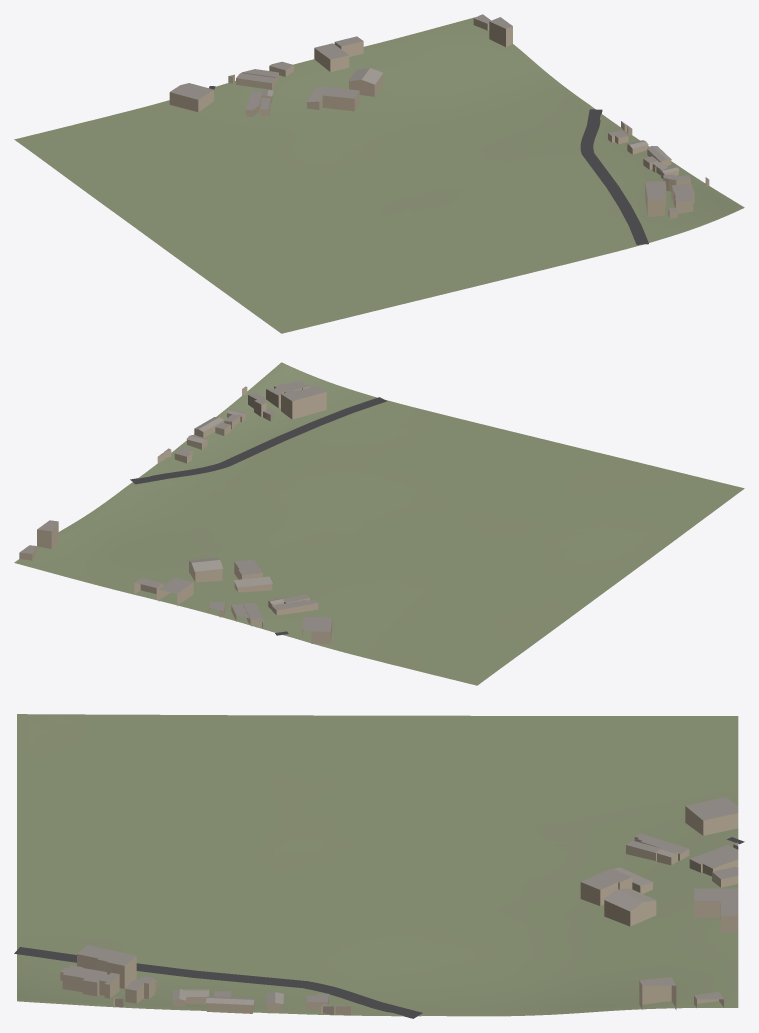
The picture shows the model from 3 angles, top to bottom: view 1: azimuth 30°, elevation 25°; view 2: azimuth 150°, elevation 25°; view 3: azimuth 270°, elevation 25°; orthographic projection. The views are drawn at different scales.
Parts seen in each view (by area): view 1: ground, walls, roofs, road, sheetRoofs; view 2: ground, walls, roofs, road, sheetRoofs; view 3: ground, walls, roofs, road, sheetRoofs.
Part boxes in pixels (x1=…): ground: x1=14, y1=17, x2=744, y2=333; walls: x1=169, y1=18, x2=709, y2=218; roofs: x1=170, y1=14, x2=708, y2=211; road: x1=209, y1=86, x2=648, y2=244; sheetRoofs: x1=262, y1=68, x2=679, y2=173; ground: x1=14, y1=362, x2=744, y2=685; walls: x1=19, y1=386, x2=332, y2=644; roofs: x1=20, y1=380, x2=332, y2=631; road: x1=130, y1=397, x2=387, y2=635; sheetRoofs: x1=186, y1=409, x2=284, y2=604; ground: x1=17, y1=714, x2=738, y2=1016; walls: x1=60, y1=806, x2=738, y2=1015; roofs: x1=61, y1=797, x2=738, y2=1006; road: x1=14, y1=837, x2=744, y2=1018; sheetRoofs: x1=172, y1=848, x2=678, y2=1005.
Size of the model in its own units: 252 by 13.57 by 253.
